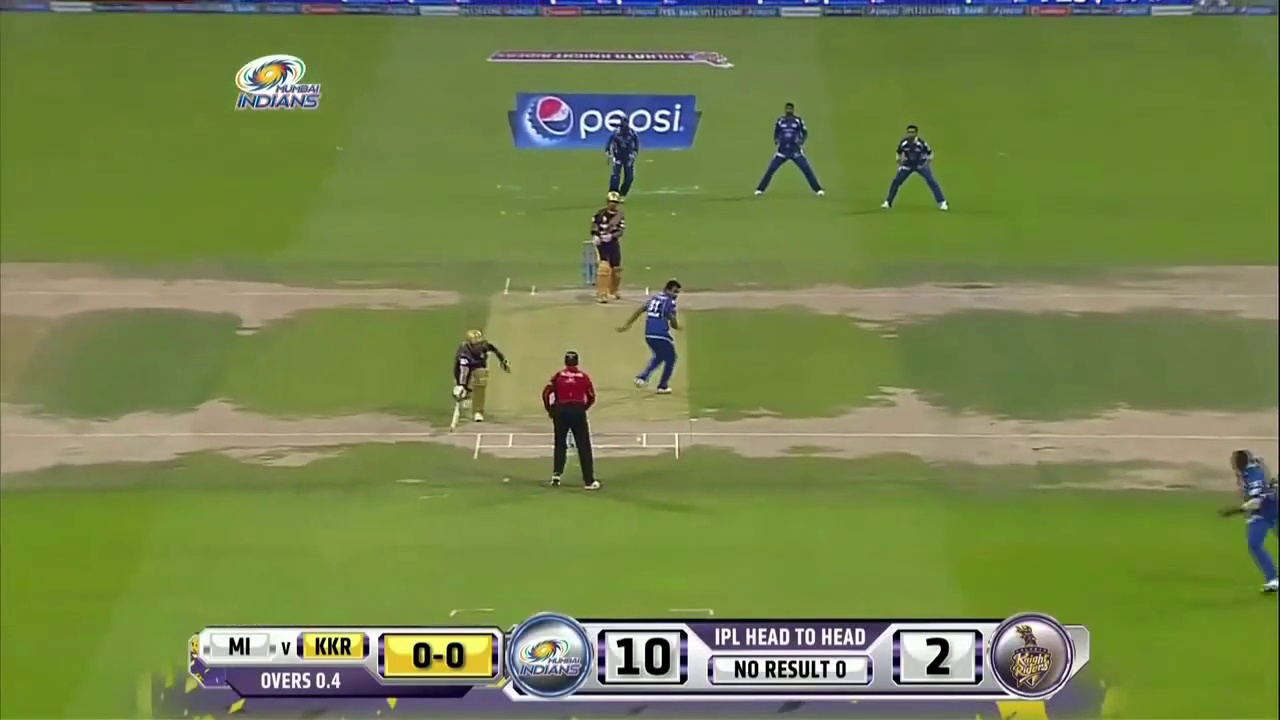bat: (452, 404, 462, 432)
